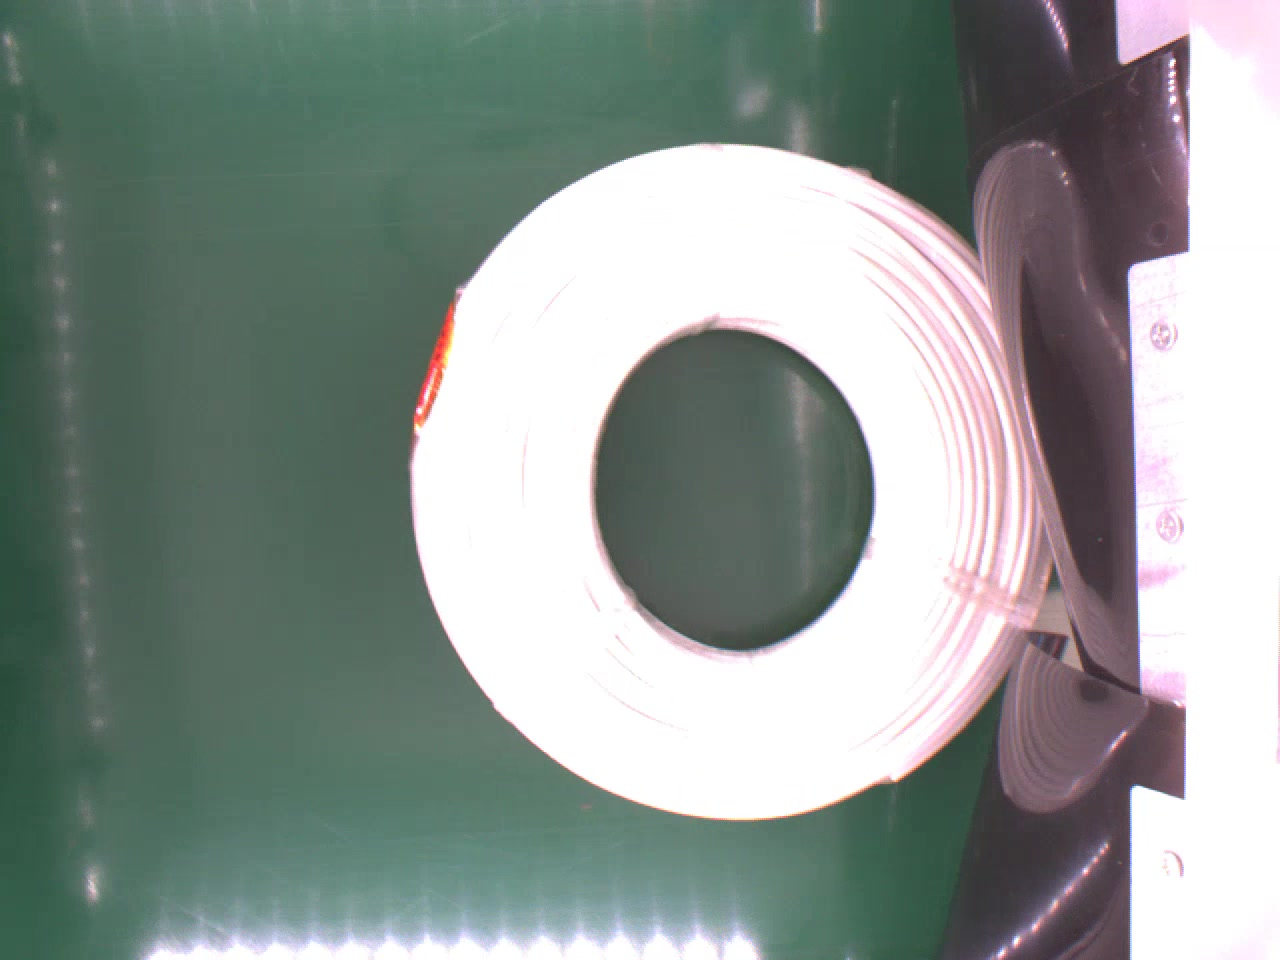white: (410, 139, 1053, 825)
